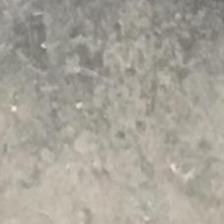Non_Crack: (13, 17, 194, 216)
